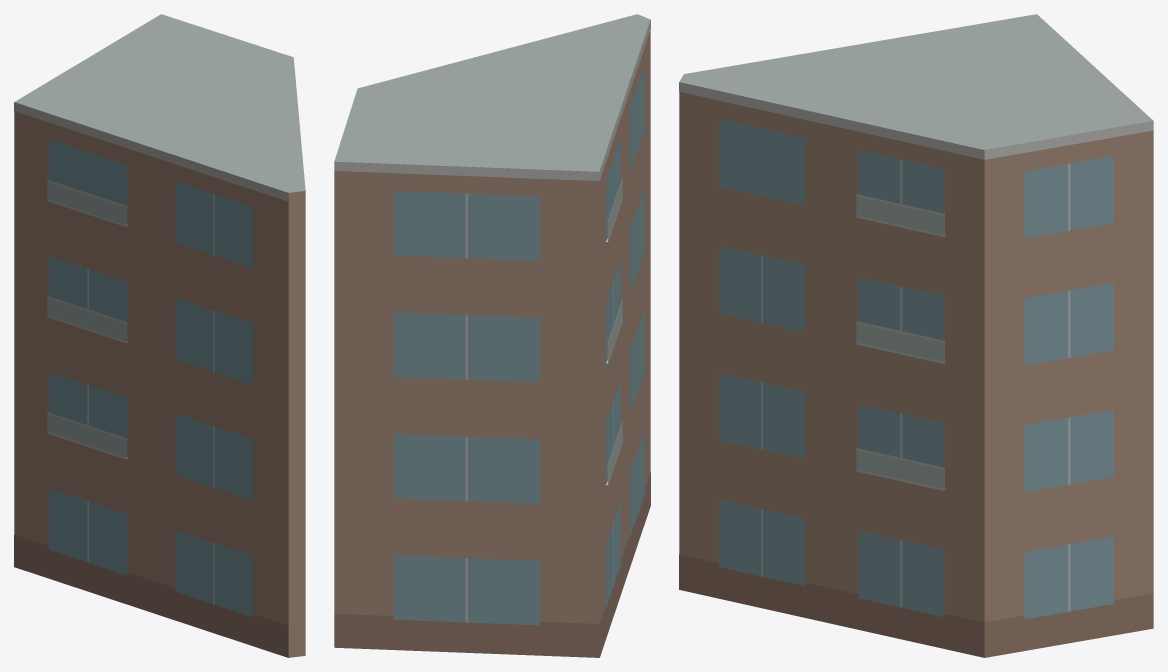
Rendered from survey-upis-32624789.glb.
The picture shows the model from 3 angles, left to right: view 1: azimuth 30°, elevation 25°; view 2: azimuth 150°, elevation 25°; view 3: azimuth 270°, elevation 25°; orthographic projection. The views are drawn at different scales.
Visible parts, largest first — view 1: survey-upis-32624789.tmp; view 2: survey-upis-32624789.tmp; view 3: survey-upis-32624789.tmp.
Part boxes in pixels (<box>): survey-upis-32624789.tmp: <box>14,14,305,657</box>; survey-upis-32624789.tmp: <box>334,14,650,657</box>; survey-upis-32624789.tmp: <box>679,14,1153,657</box>.
Bounding box in the file's own units: 7.37 × 12.8 × 10.85.
